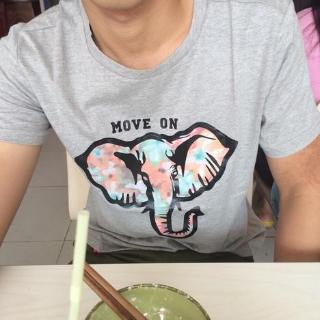short sleeve top: (0, 0, 319, 258)
